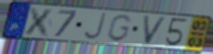5: (164, 17, 190, 47)
7: (53, 8, 80, 39)
G: (105, 13, 134, 43)
J: (82, 12, 108, 41)
V: (142, 15, 168, 45)
X: (22, 6, 58, 39)
